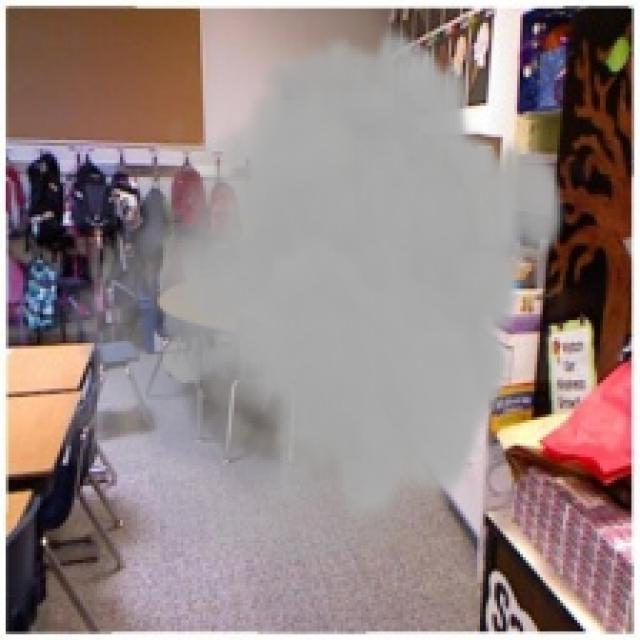Smoke: (46, 23, 568, 560)
